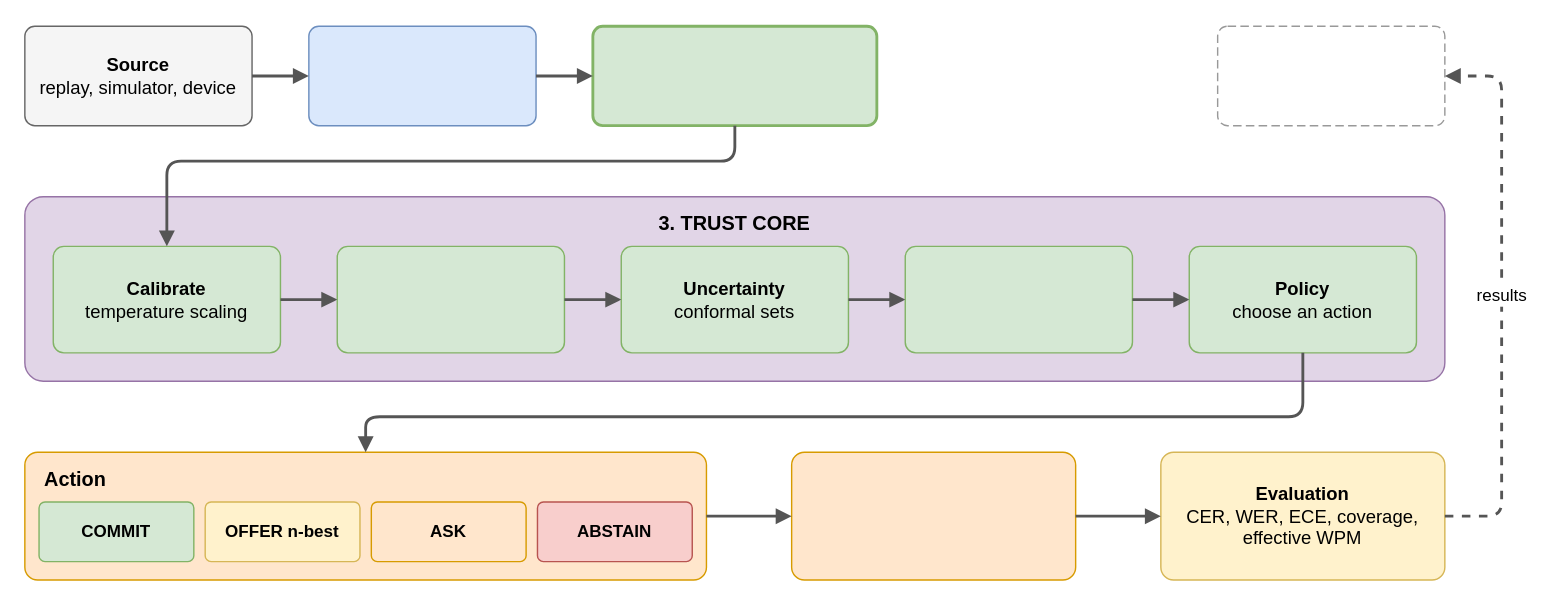
The diagram is 1551 pixels wide and 605 high, and some of its shapes have lost their labels. Here are the shapes that lost their labels. From the top down, the centre of each, then its label:
(x=421, y=75): Decoder conv + CTC or third-party
(x=734, y=75): NeuralTextStream time steps + char log-probs
(x=1330, y=75): Research improve decoder + trust core
(x=450, y=299): LM fusion beam search, n-best
(x=1018, y=299): Guard flag invented text
(x=933, y=515): Interaction UI or simulated user
